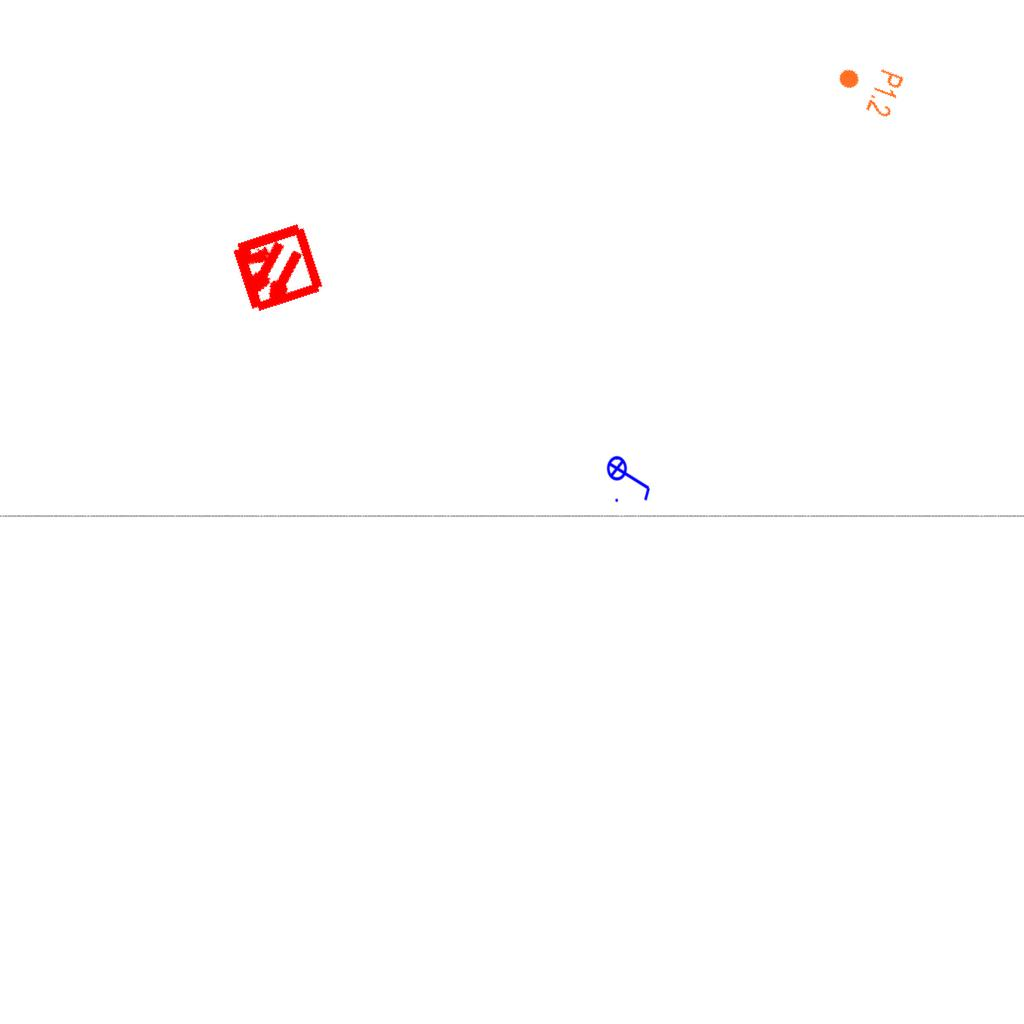Ausschalter_beleuchtet: (606, 449, 654, 505)
Downlight_LED_Einbauleuchten_Flur: (829, 54, 907, 120)
OT_Multisensormelder_(Kombination_RMO_WMD): (204, 197, 347, 340)
